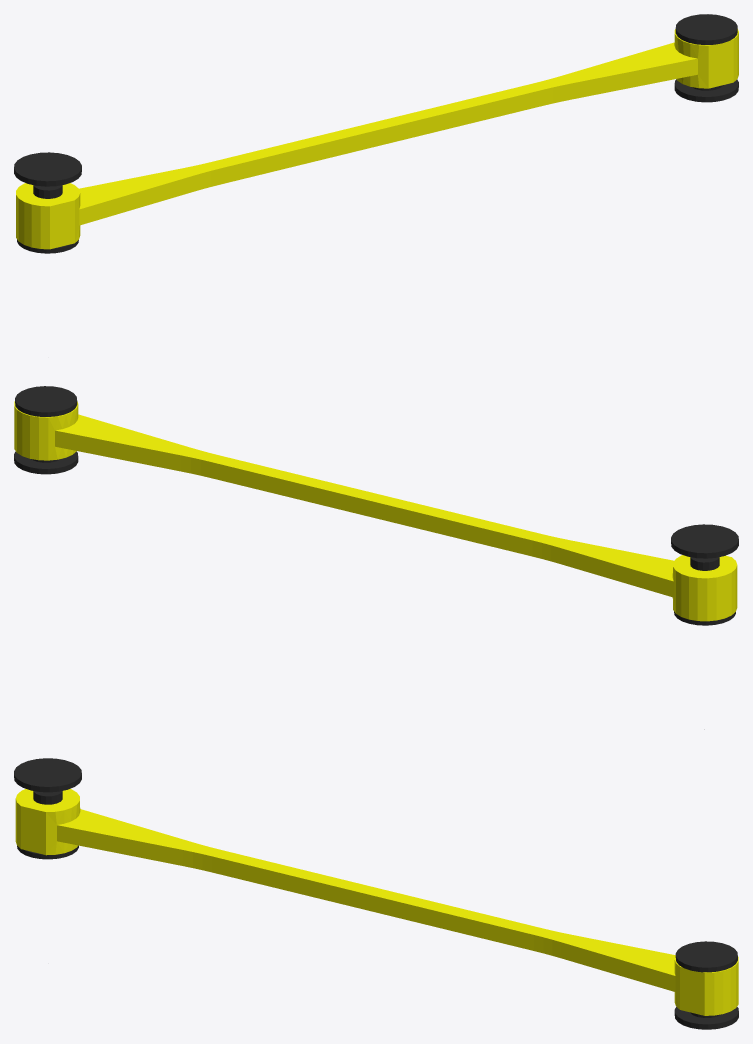
3 views of the same model, one above another, from view 1: azimuth 30°, elevation 25°; view 2: azimuth 150°, elevation 25°; view 3: azimuth 330°, elevation 25° (orthographic).
Visible parts, largest first — view 1: node; view 2: node; view 3: node.
Part boxes in pixels (<box>): node: <box>14,14,738,253</box>; node: <box>14,386,738,729</box>; node: <box>14,758,738,1029</box>.
Bounding box in the file's own units: 1114 × 284 × 92.
